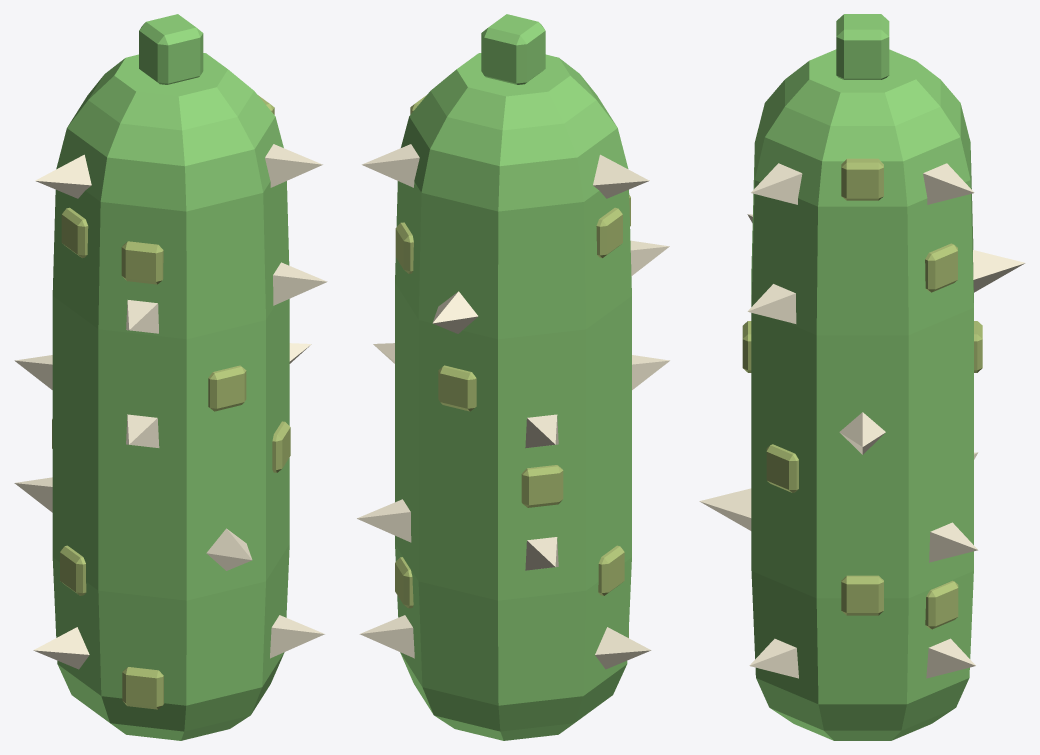
Rendered from DesertPricklyCucumber.fbx.
3 renders of one model, left to right at view 1: azimuth 30°, elevation 25°; view 2: azimuth 150°, elevation 25°; view 3: azimuth 270°, elevation 25°, orthographic.
Visible parts, largest first — view 1: DesertPricklyCucumber.Body, DesertPricklyCucumber.Spikes, DesertPricklyCucumber.Studs; view 2: DesertPricklyCucumber.Body, DesertPricklyCucumber.Spikes, DesertPricklyCucumber.Studs; view 3: DesertPricklyCucumber.Body, DesertPricklyCucumber.Spikes, DesertPricklyCucumber.Studs.
Part boxes in pixels (bbox=[...]): DesertPricklyCucumber.Body: bbox=[52, 14, 289, 740]; DesertPricklyCucumber.Spikes: bbox=[14, 144, 327, 669]; DesertPricklyCucumber.Studs: bbox=[52, 95, 290, 709]; DesertPricklyCucumber.Body: bbox=[395, 14, 631, 740]; DesertPricklyCucumber.Spikes: bbox=[357, 144, 669, 669]; DesertPricklyCucumber.Studs: bbox=[395, 95, 630, 637]; DesertPricklyCucumber.Body: bbox=[751, 14, 973, 740]; DesertPricklyCucumber.Spikes: bbox=[699, 163, 1025, 678]; DesertPricklyCucumber.Studs: bbox=[742, 158, 982, 629].
Bounding box in the file's own units: 1.83 × 4.3 × 1.85.
